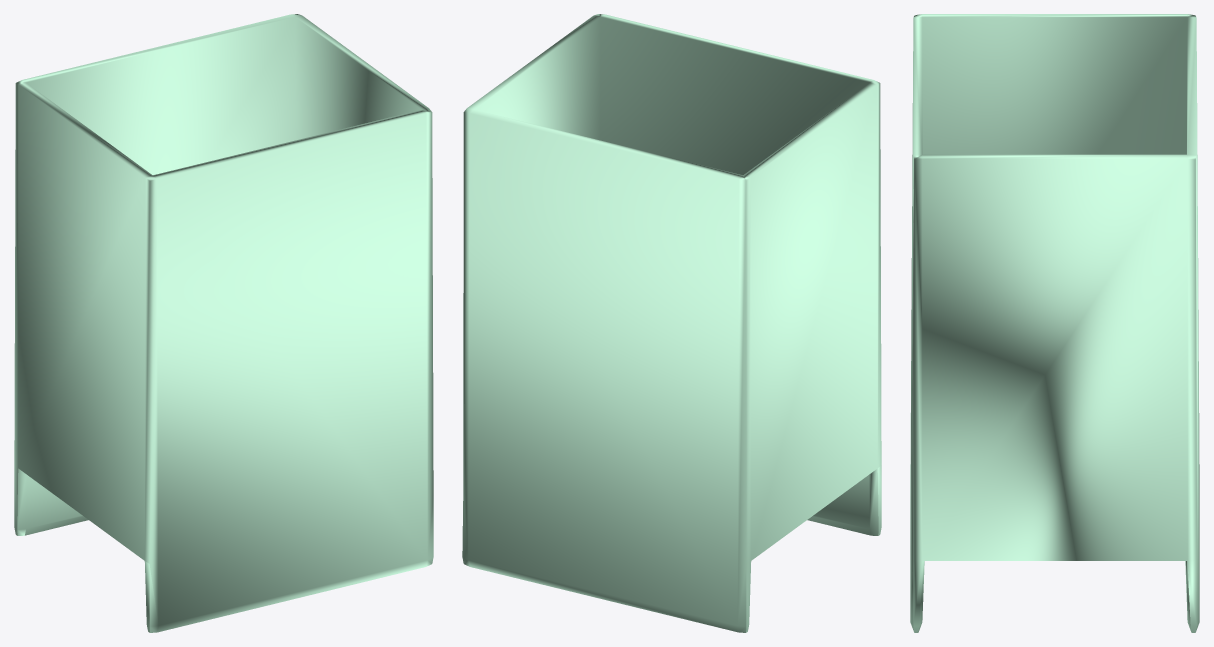
File: x-ray_curtain.glb
3 views of the same model, side by side, from view 1: azimuth 30°, elevation 25°; view 2: azimuth 150°, elevation 25°; view 3: azimuth 270°, elevation 25° (orthographic). The views are drawn at different scales.
Parts seen in each view (by area): view 1: curtain; view 2: curtain; view 3: curtain.
Part boxes in pixels (box(x1,y1,x2,y2)): curtain: box(14, 14, 433, 632); curtain: box(462, 14, 881, 632); curtain: box(910, 14, 1199, 632).
Bounding box in the file's own units: 5.72 × 8.71 × 4.8.
